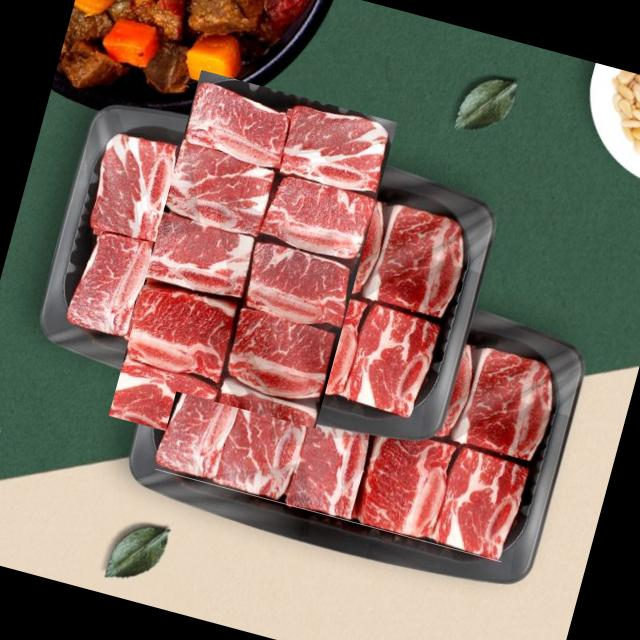beef: (81, 97, 425, 441), (154, 391, 522, 562)
